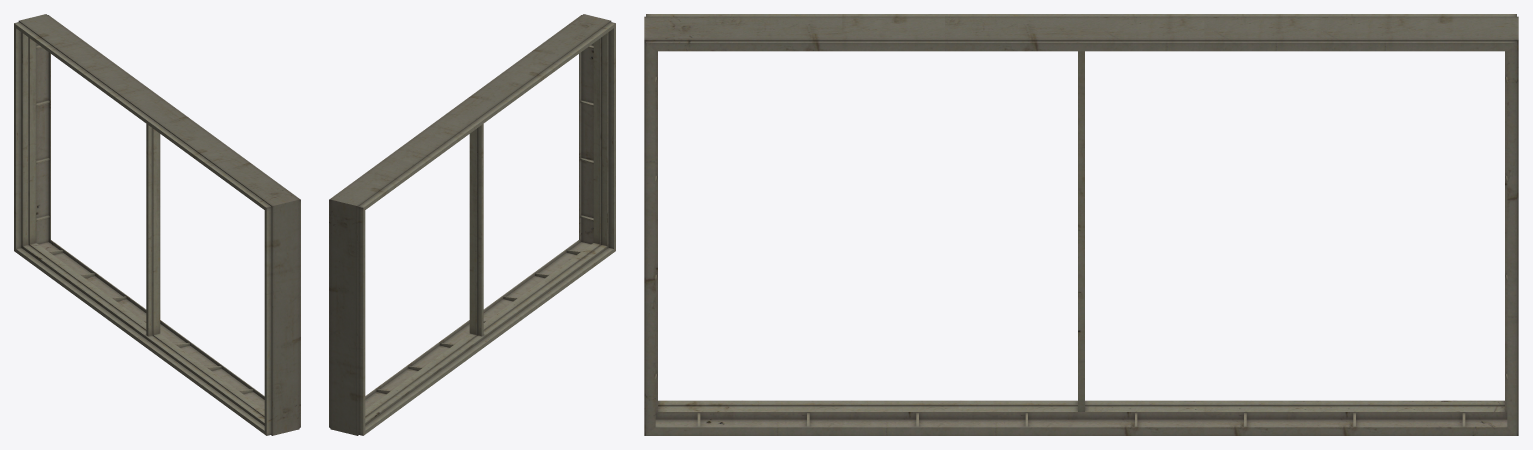
The model's file is window_256_a.glb.
The picture shows the model from 3 angles, left to right: view 1: azimuth 30°, elevation 25°; view 2: azimuth 150°, elevation 25°; view 3: azimuth 270°, elevation 25°; orthographic projection. The views are drawn at different scales.
Parts seen in each view (by area): view 1: window_256_a; view 2: window_256_a; view 3: window_256_a.
Part boxes in pixels (bbox=[...]): window_256_a: bbox=[14, 14, 300, 435]; window_256_a: bbox=[329, 14, 615, 435]; window_256_a: bbox=[644, 14, 1518, 435].
Size of the model in its own units: 0.381 by 2.44 by 4.88.
Materials: 1 (1 with a texture image).
